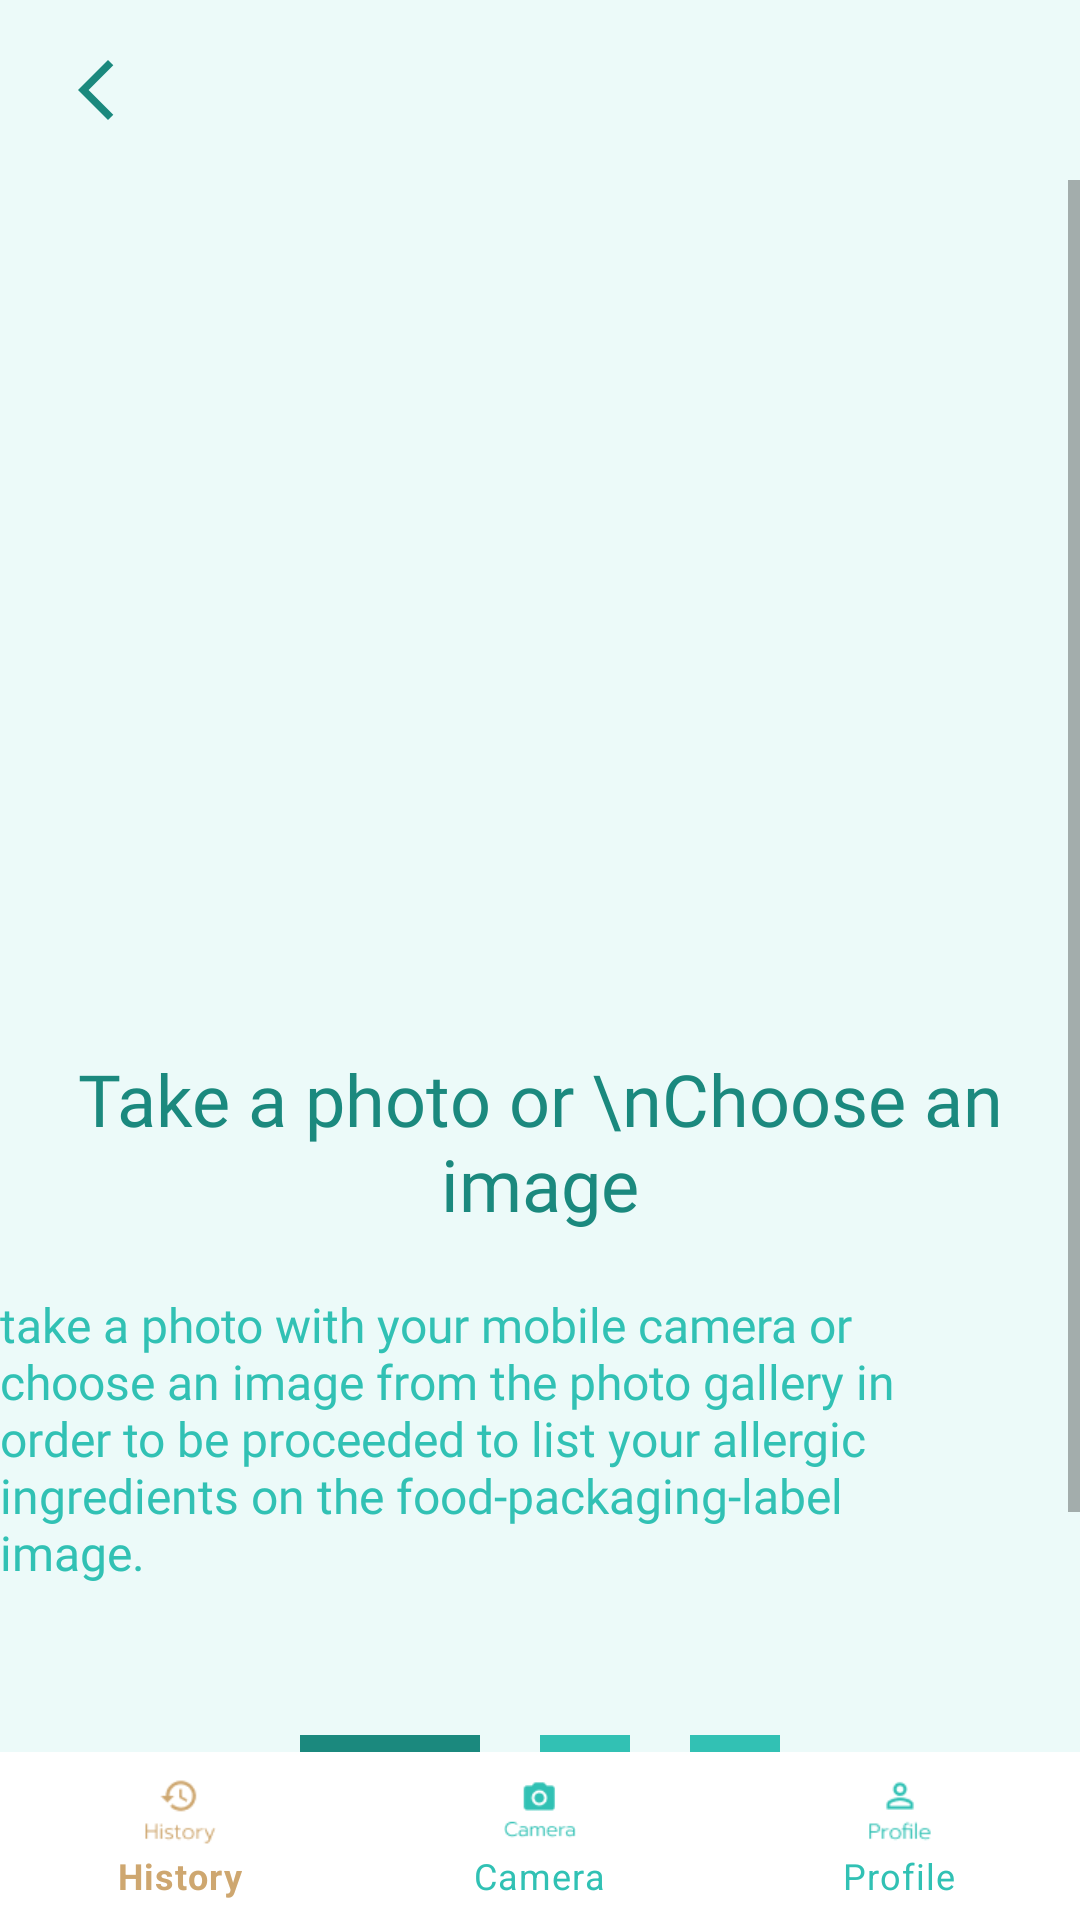

Icons on this 1080 x 1920 Android screen, each with the point to tap as (x,y):
arrow: (95,90)
